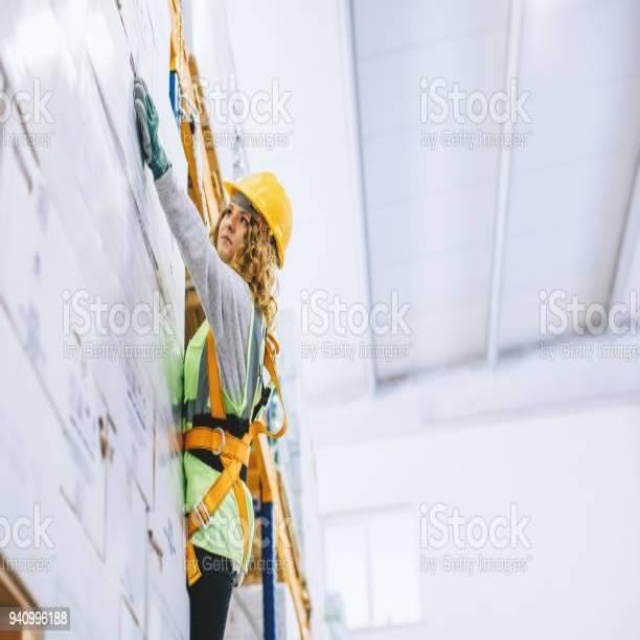Arnes_seguridad: (164, 284, 274, 587)
